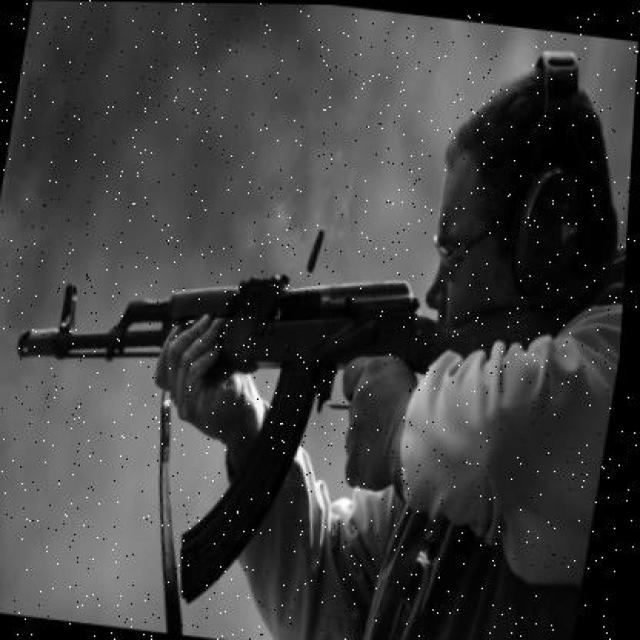weapon: (15, 272, 567, 605)
